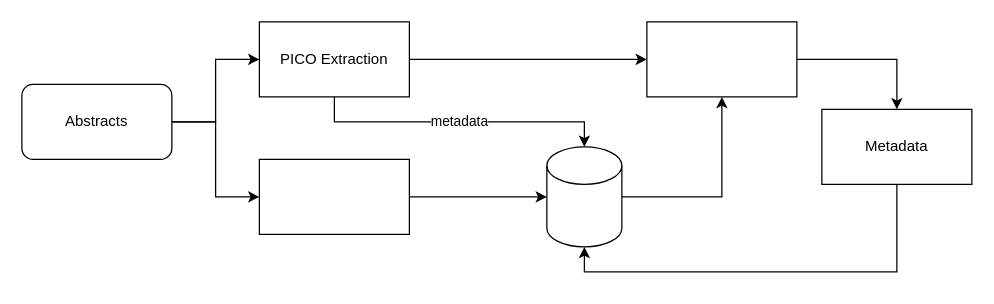
The diagram is 994 pixels wide and 304 high, and some of its shapes have lost their labels. The centre of each missing label's shape, as x and y in pixels:
"Embedding" goes at point 333,196.
"RAG" goes at point 721,59.
